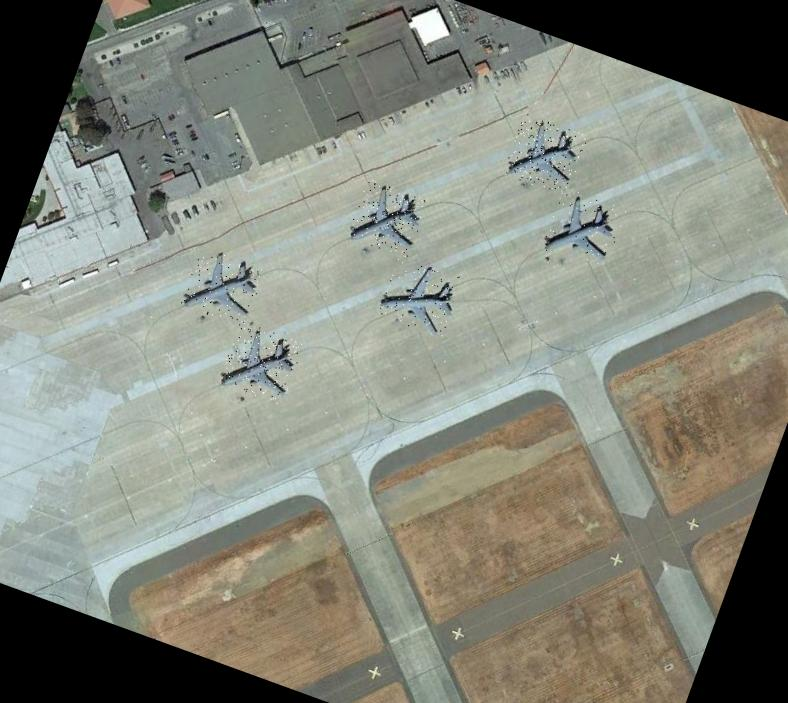A18: (541, 185, 627, 271), (502, 112, 588, 197), (218, 320, 304, 405), (377, 254, 464, 338), (179, 244, 266, 327), (346, 178, 429, 259)
